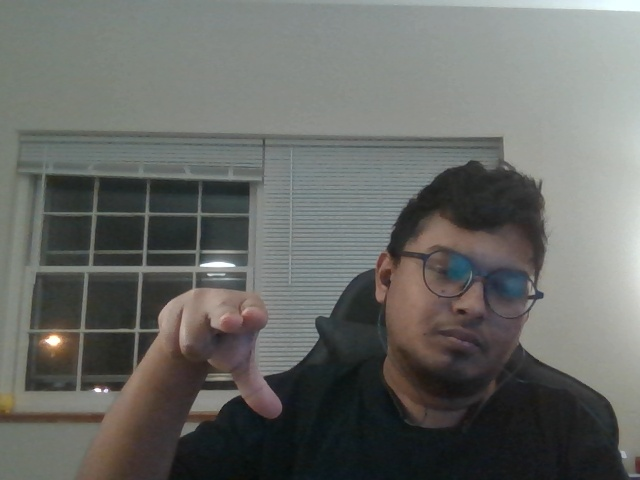no: (148, 266, 307, 434)
